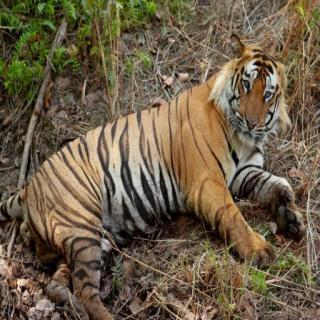Tiger: (11, 30, 307, 320)
